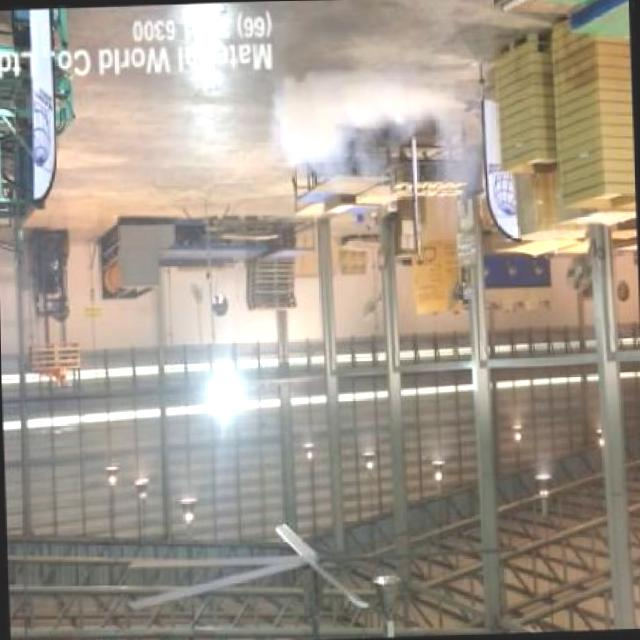smoke: (264, 62, 490, 225)
